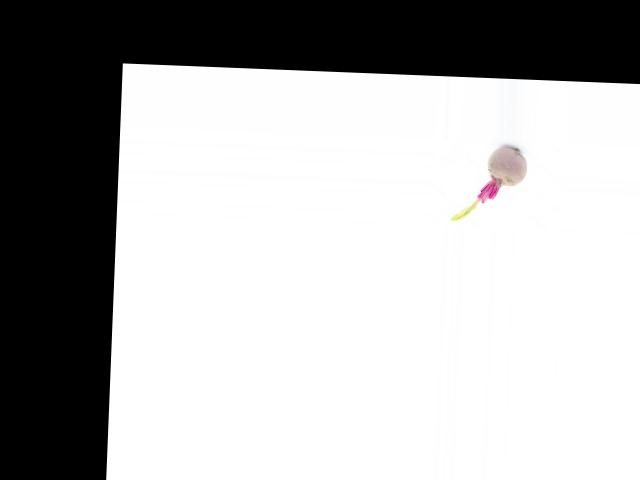beet: (451, 144, 528, 223)
